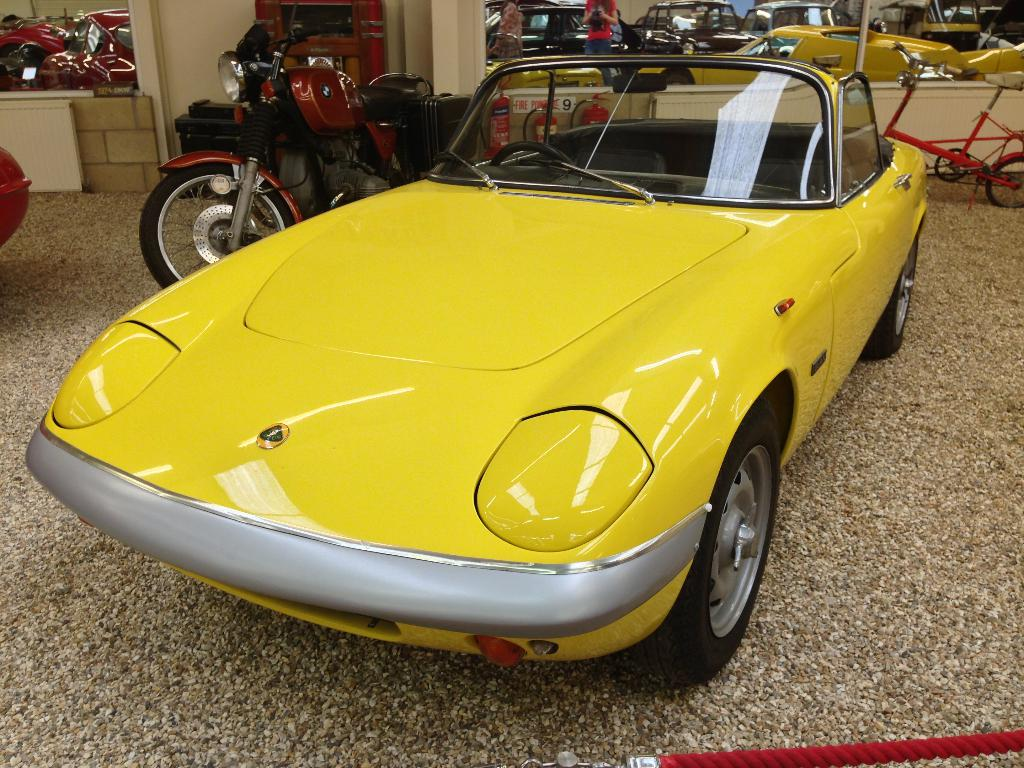Car: (0, 0, 1023, 684)
